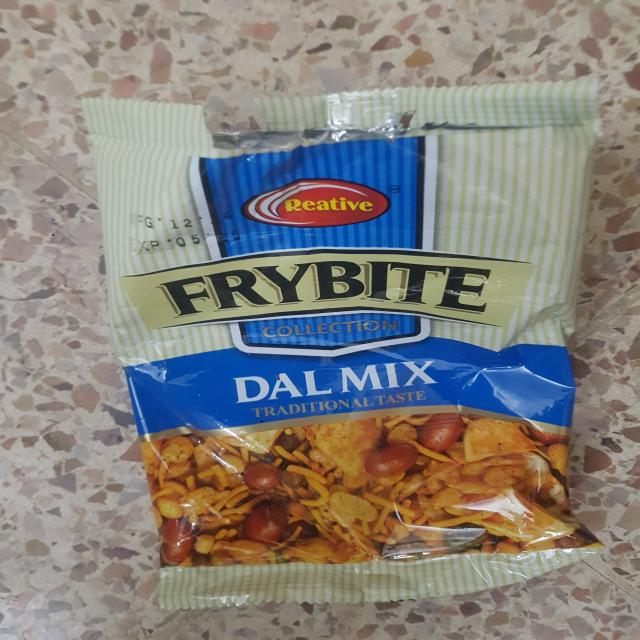electronic: (79, 78, 606, 608)
